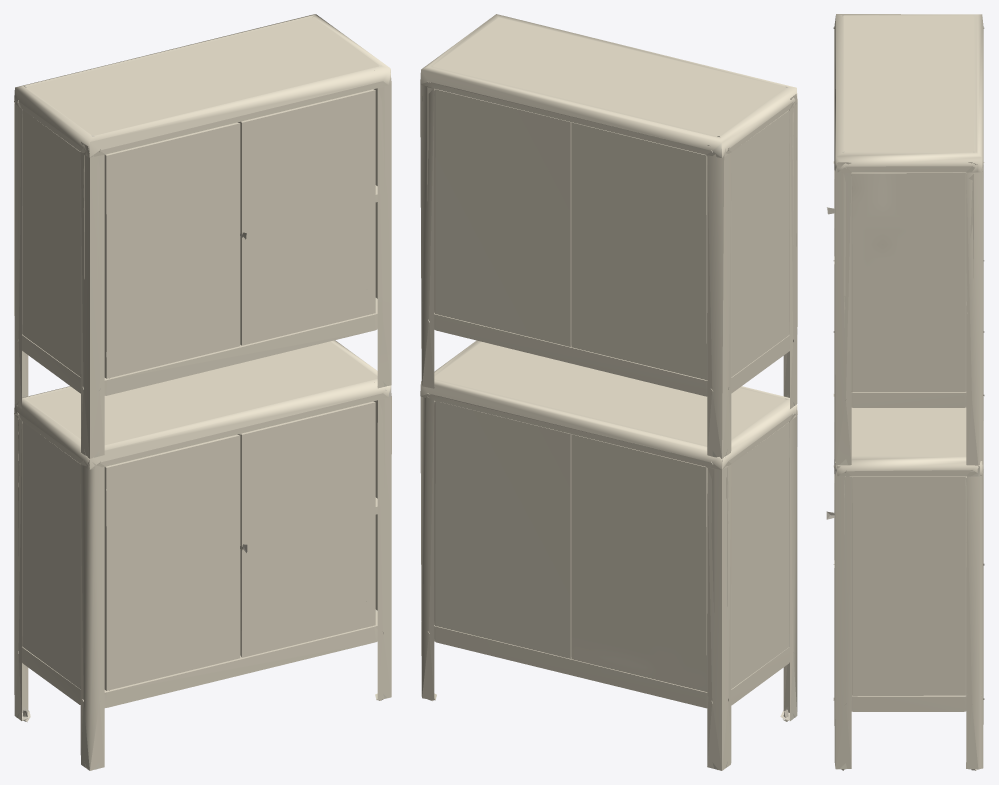
Rendered from kolbjorn-armario-para-interior-o-exterior-beige.glb.
3 views of the same model, side by side, from view 1: azimuth 30°, elevation 25°; view 2: azimuth 150°, elevation 25°; view 3: azimuth 270°, elevation 25° (orthographic). The views are drawn at different scales.
Parts seen in each view (by area): view 1: Mesh_0; view 2: Mesh_0; view 3: Mesh_0.
Part boxes in pixels (x1,y1,x2,y2): Mesh_0: [14, 14, 391, 770]; Mesh_0: [420, 14, 797, 770]; Mesh_0: [826, 14, 984, 770].
Bounding box in the file's own units: 0.8033 × 1.59 × 0.3698.
1 material, 1 textured.
